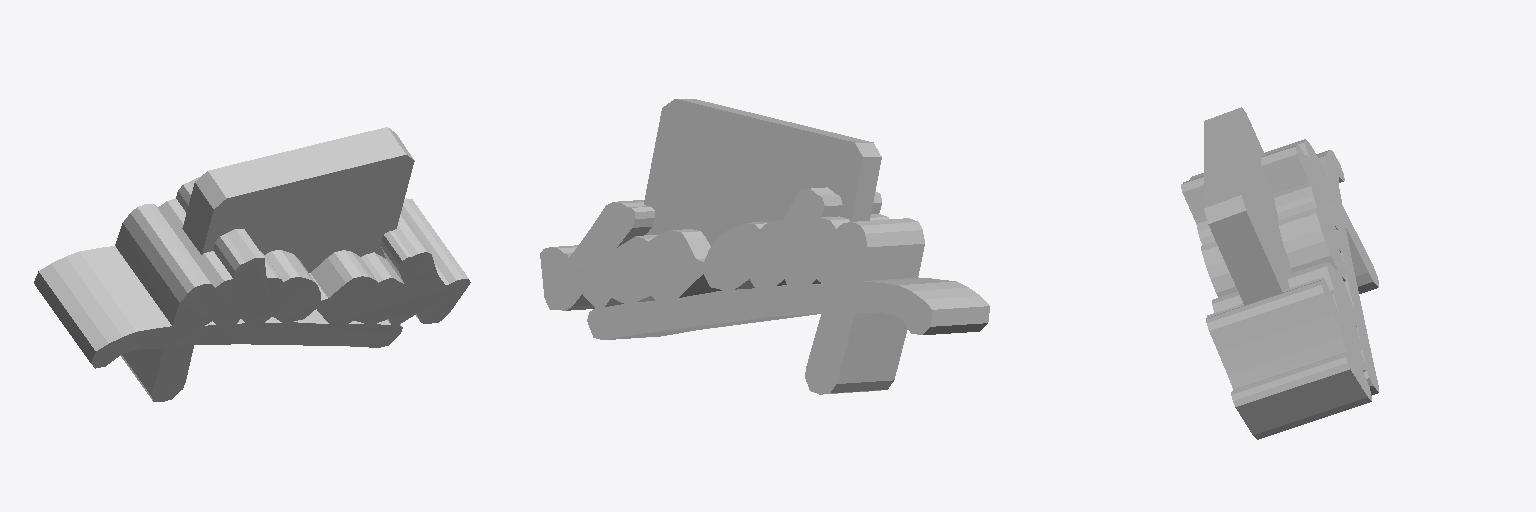
Rendered from vcicon.icn.obj.
The picture shows the model from 3 angles: view 1: azimuth 30°, elevation 25°; view 2: azimuth 150°, elevation 25°; view 3: azimuth 270°, elevation 25°; orthographic projection.
Size of the model in its own units: 1 by 0.5742 by 0.4463.